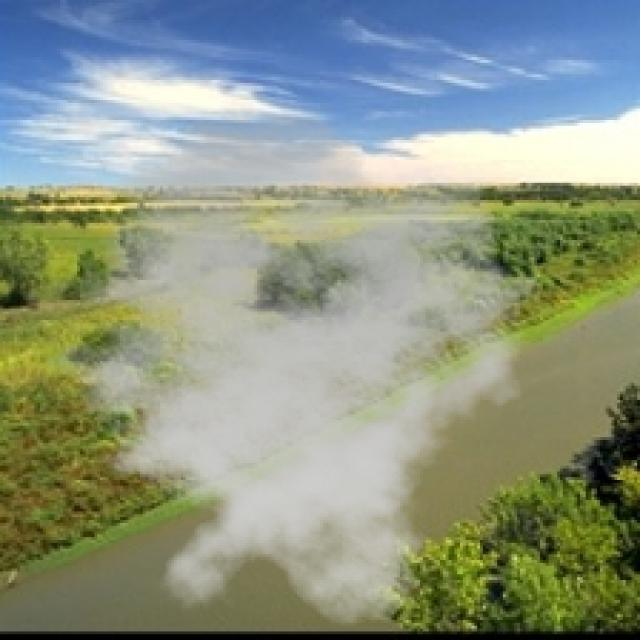Smoke: (19, 109, 554, 628)
